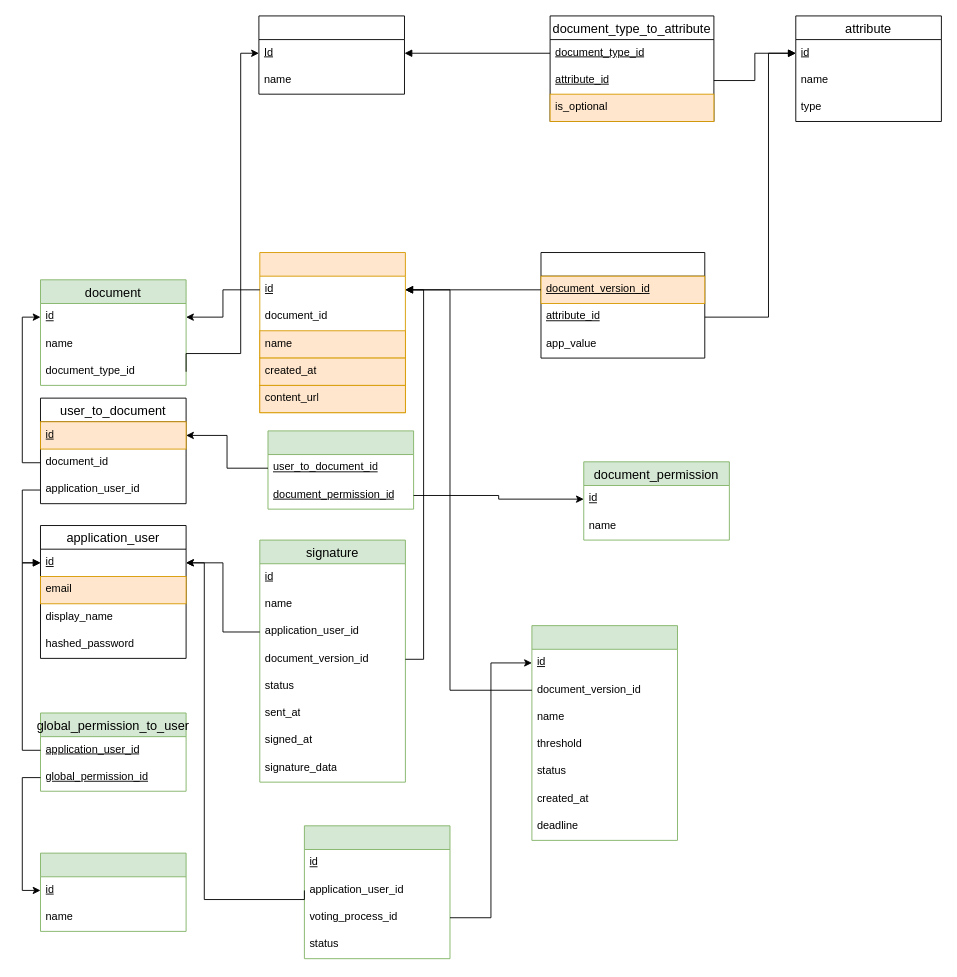
The diagram is 957 pixels wide and 977 high, and some of its shapes have lost their labels. The shapes that lost their labels are listed below. From the top down, each one's box as (x1, y1, x2, y2) in pixels, then its label:
(258, 15, 404, 94): document_type
(540, 252, 705, 358): document_attribute_value
(259, 252, 405, 413): document_version
(267, 430, 414, 509): document_permissions
(531, 625, 677, 840): voting_process
(40, 852, 186, 931): global_permission
(303, 825, 450, 959): vote
